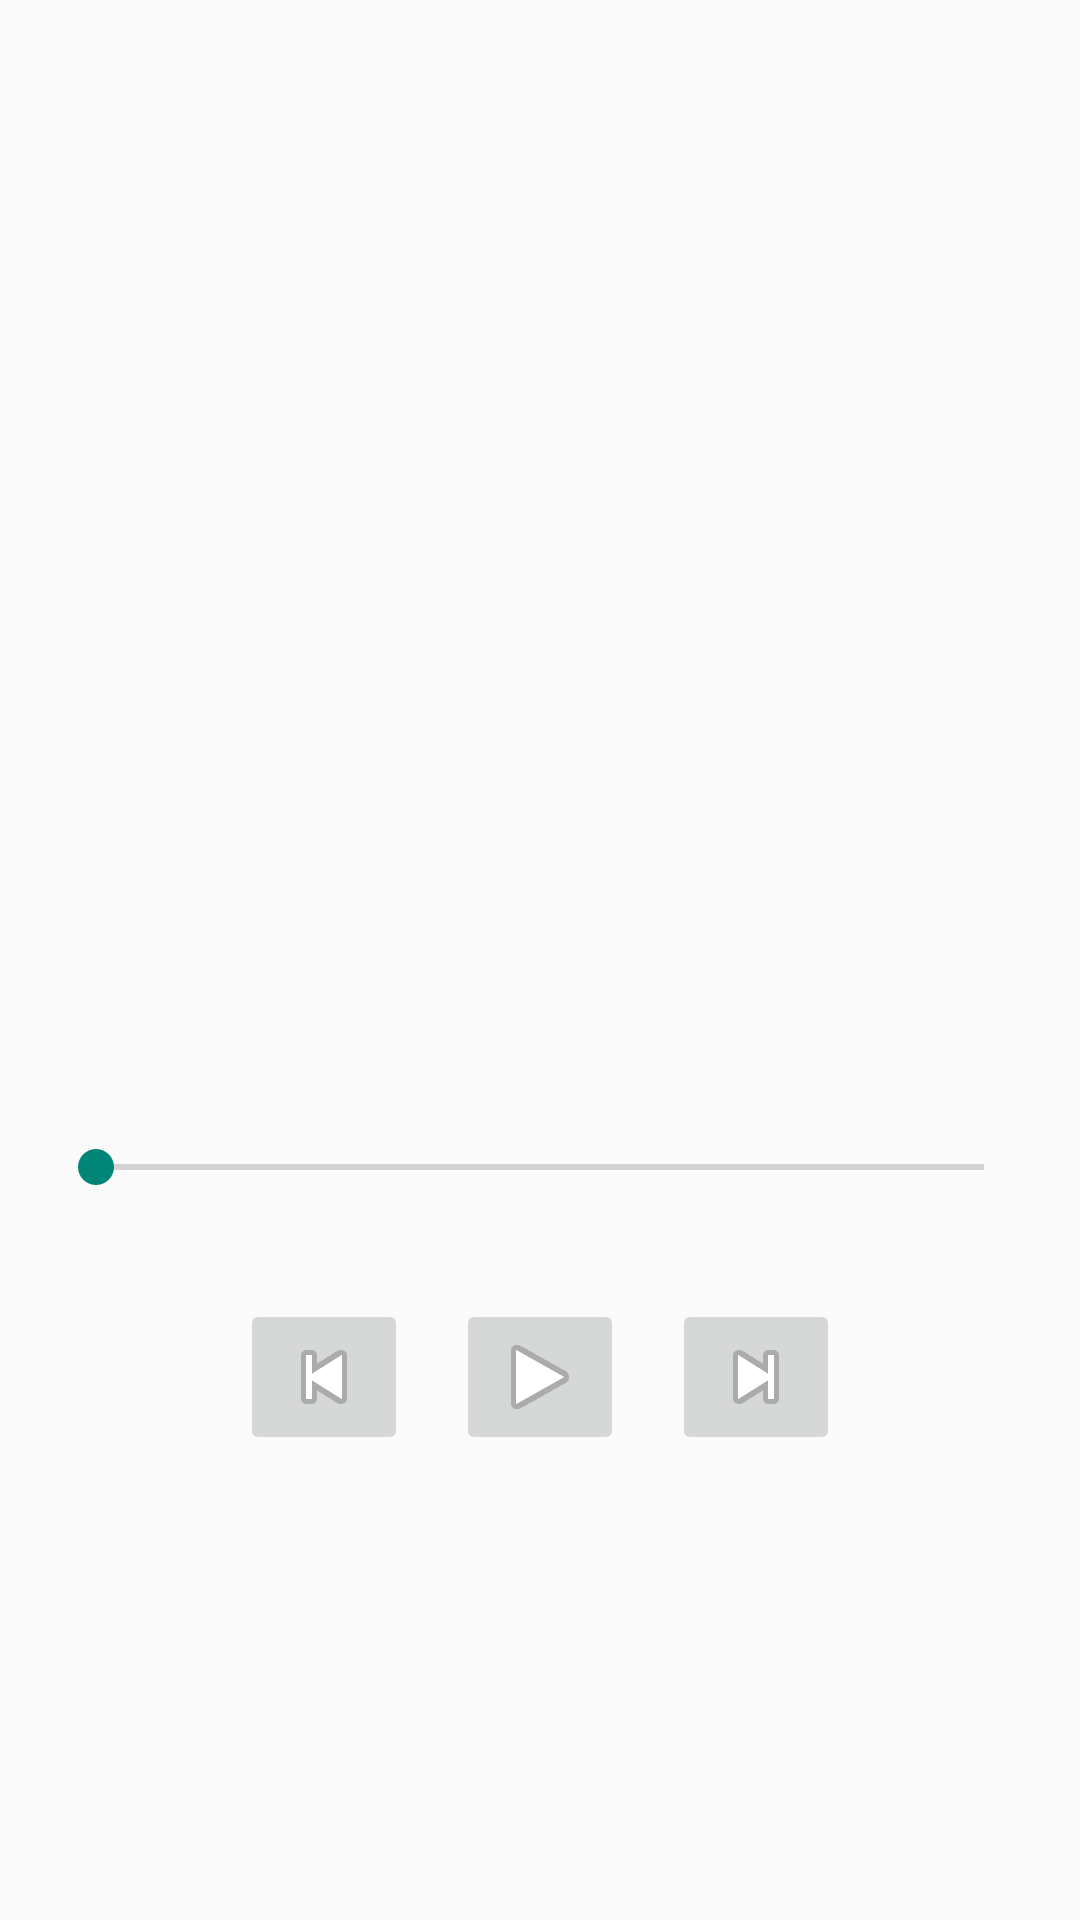

Named icons in this screenshot (1080 × 1920) and their centers, point (x, y):
next: point (756, 1377)
play: point (540, 1377)
previous: point (324, 1377)
